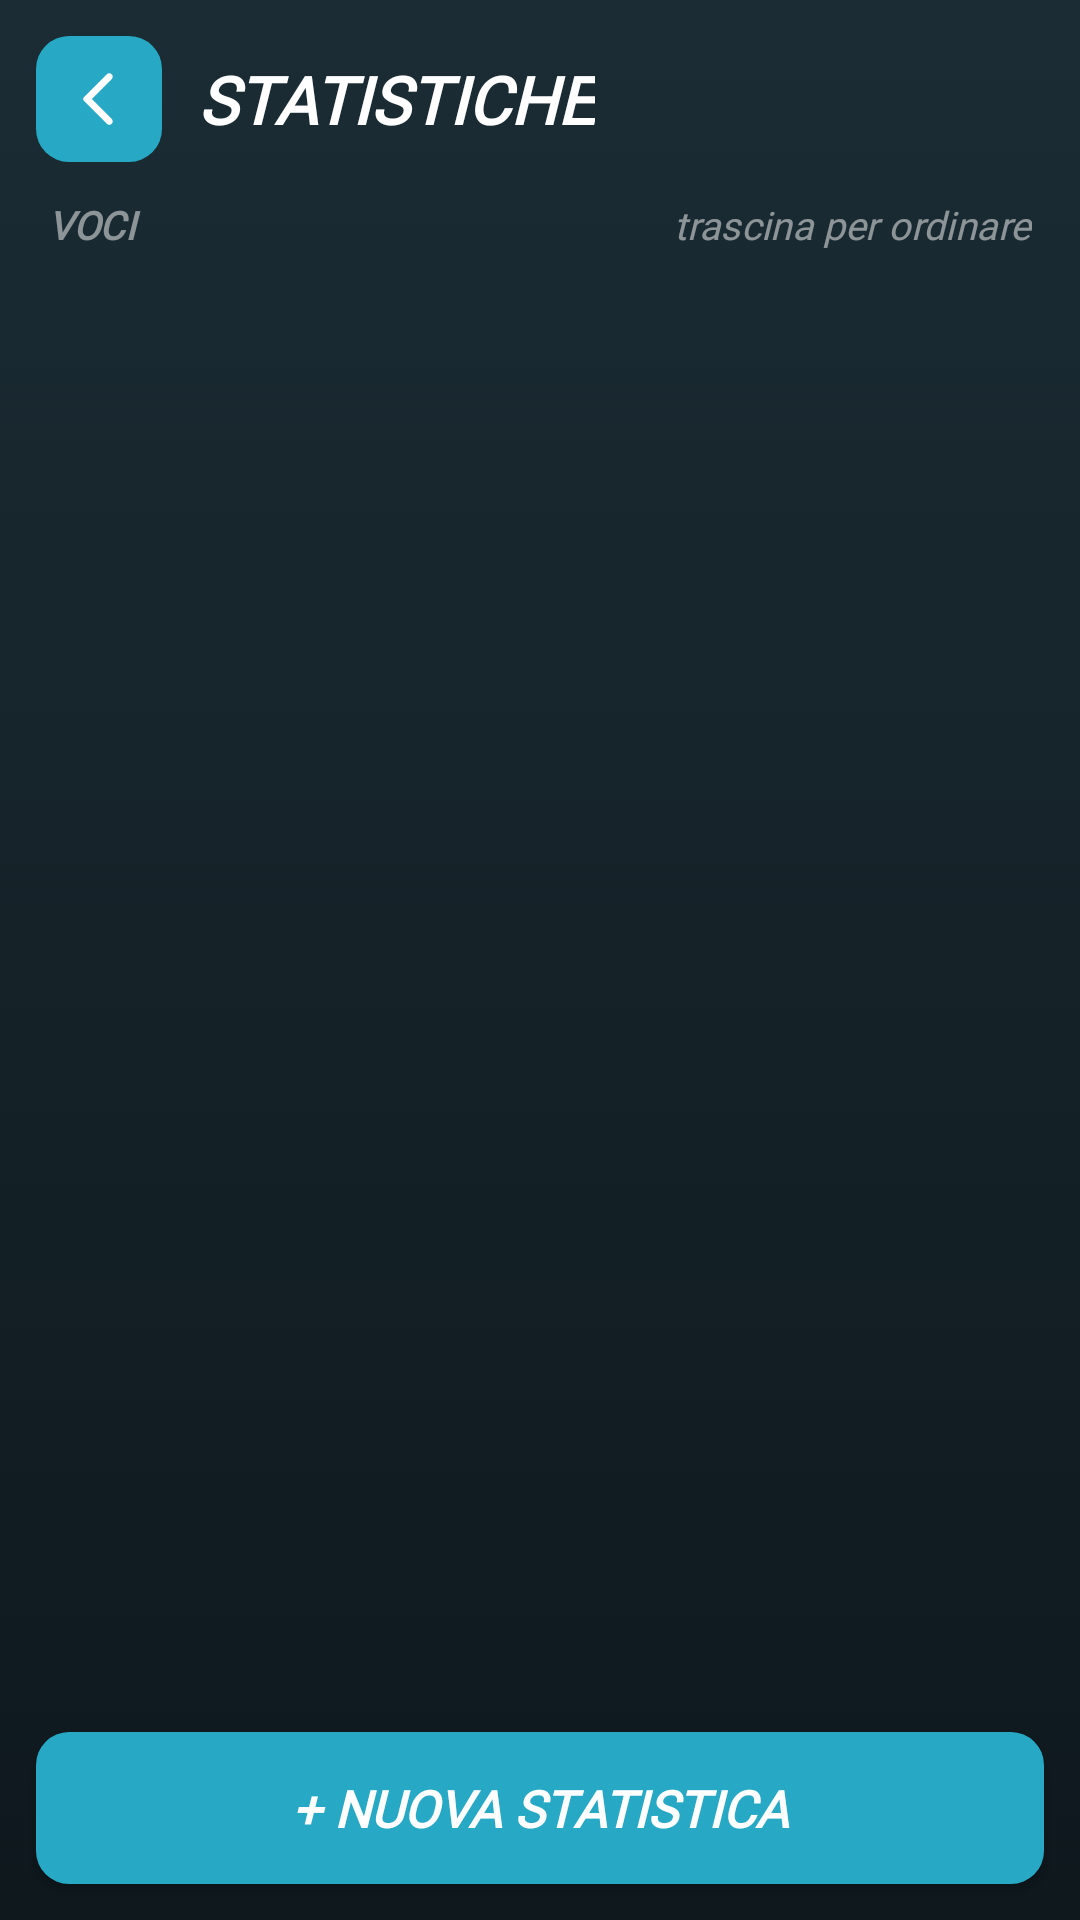

Icons on this 1080 x 1920 Android screen, each with the point to tap as (x,y):
BACK: (99,99)
